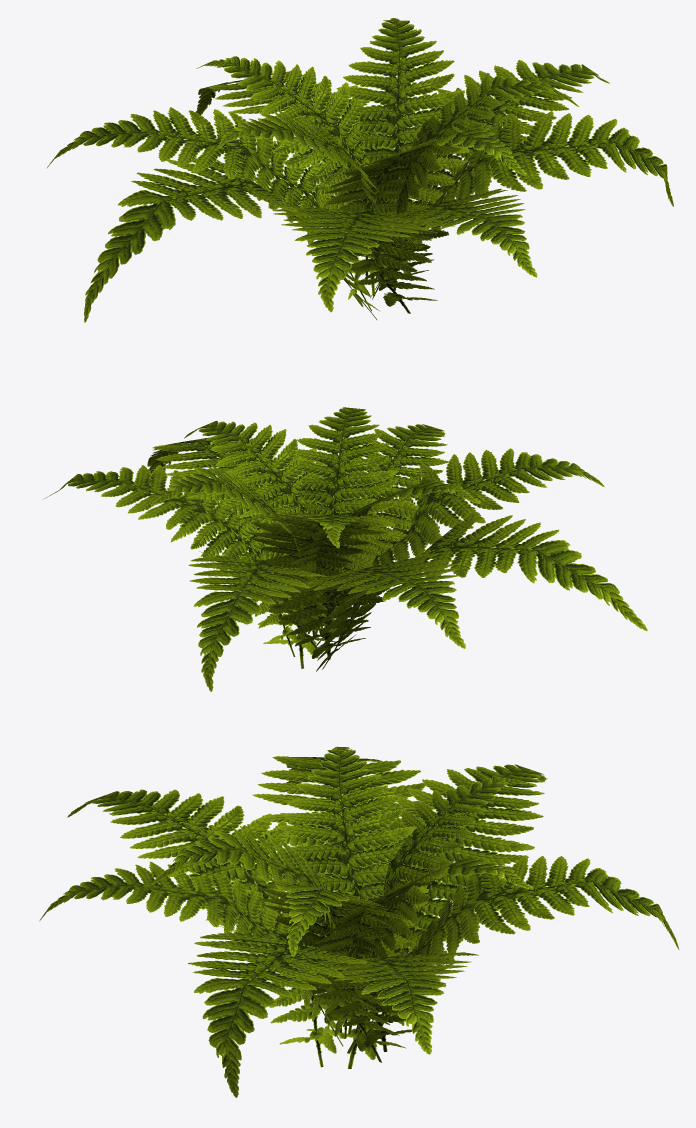
The model's file is fern.obj.
3 renders of one model, top to bottom at view 1: azimuth 30°, elevation 25°; view 2: azimuth 150°, elevation 25°; view 3: azimuth 270°, elevation 25°, orthographic. The views are drawn at different scales.
Parts seen in each view (by area): view 1: Plane; view 2: Plane; view 3: Plane.
Boxes of the visible parts, x1=… form: Plane: x1=46, y1=18, x2=673, y2=322; Plane: x1=43, y1=407, x2=647, y2=691; Plane: x1=39, y1=746, x2=679, y2=1097.
Size of the model in its own units: 11.34 by 4.33 by 10.04.
1 material, 1 textured.
